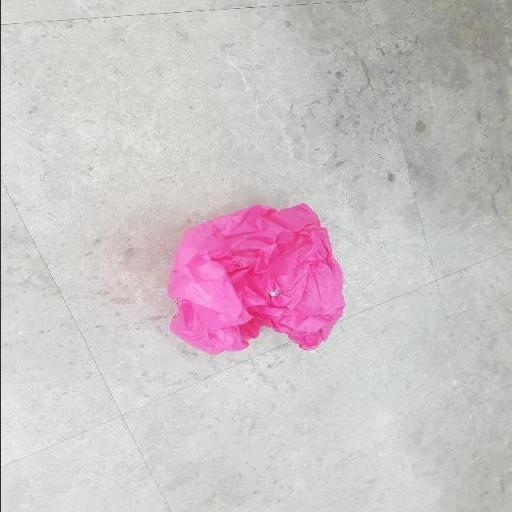plastic-bag: (168, 200, 348, 357)
